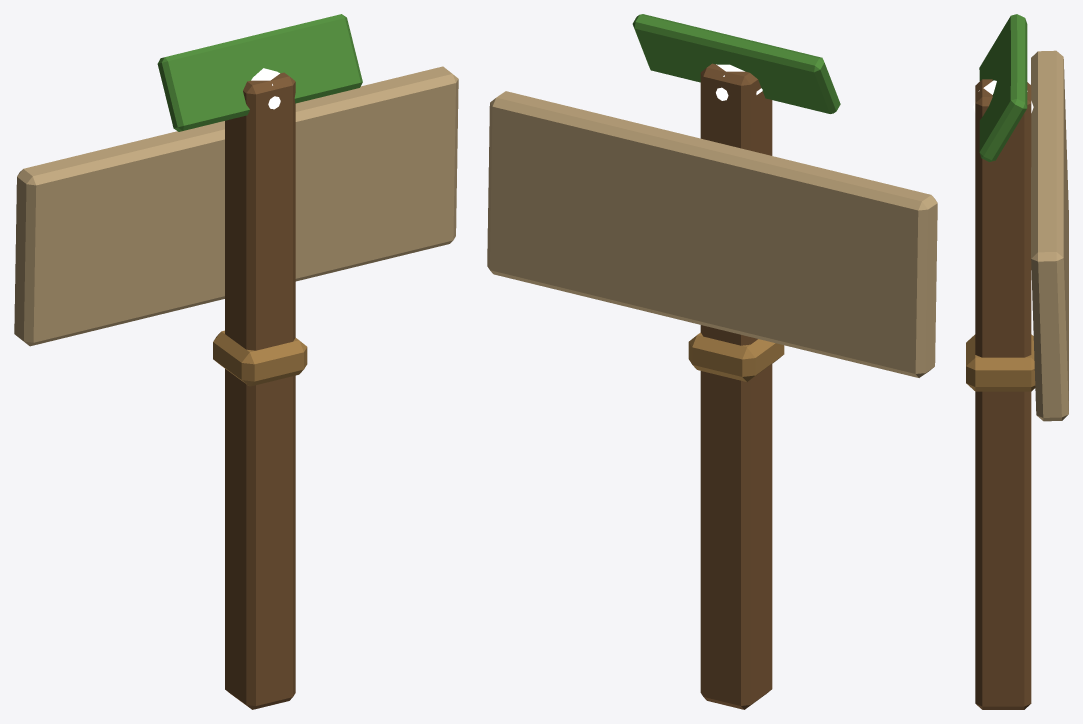
File: NameStake.glb
3 views of the same model, side by side, from view 1: azimuth 30°, elevation 25°; view 2: azimuth 150°, elevation 25°; view 3: azimuth 270°, elevation 25° (orthographic). The views are drawn at different scales.
Parts seen in each view (by area): view 1: Body; view 2: Body; view 3: Body.
Part boxes in pixels (x1=…): Body: x1=14, y1=14, x2=458, y2=709; Body: x1=487, y1=14, x2=937, y2=709; Body: x1=966, y1=14, x2=1068, y2=709.
Size of the model in its own units: 2.1 by 3.05 by 0.4411.
